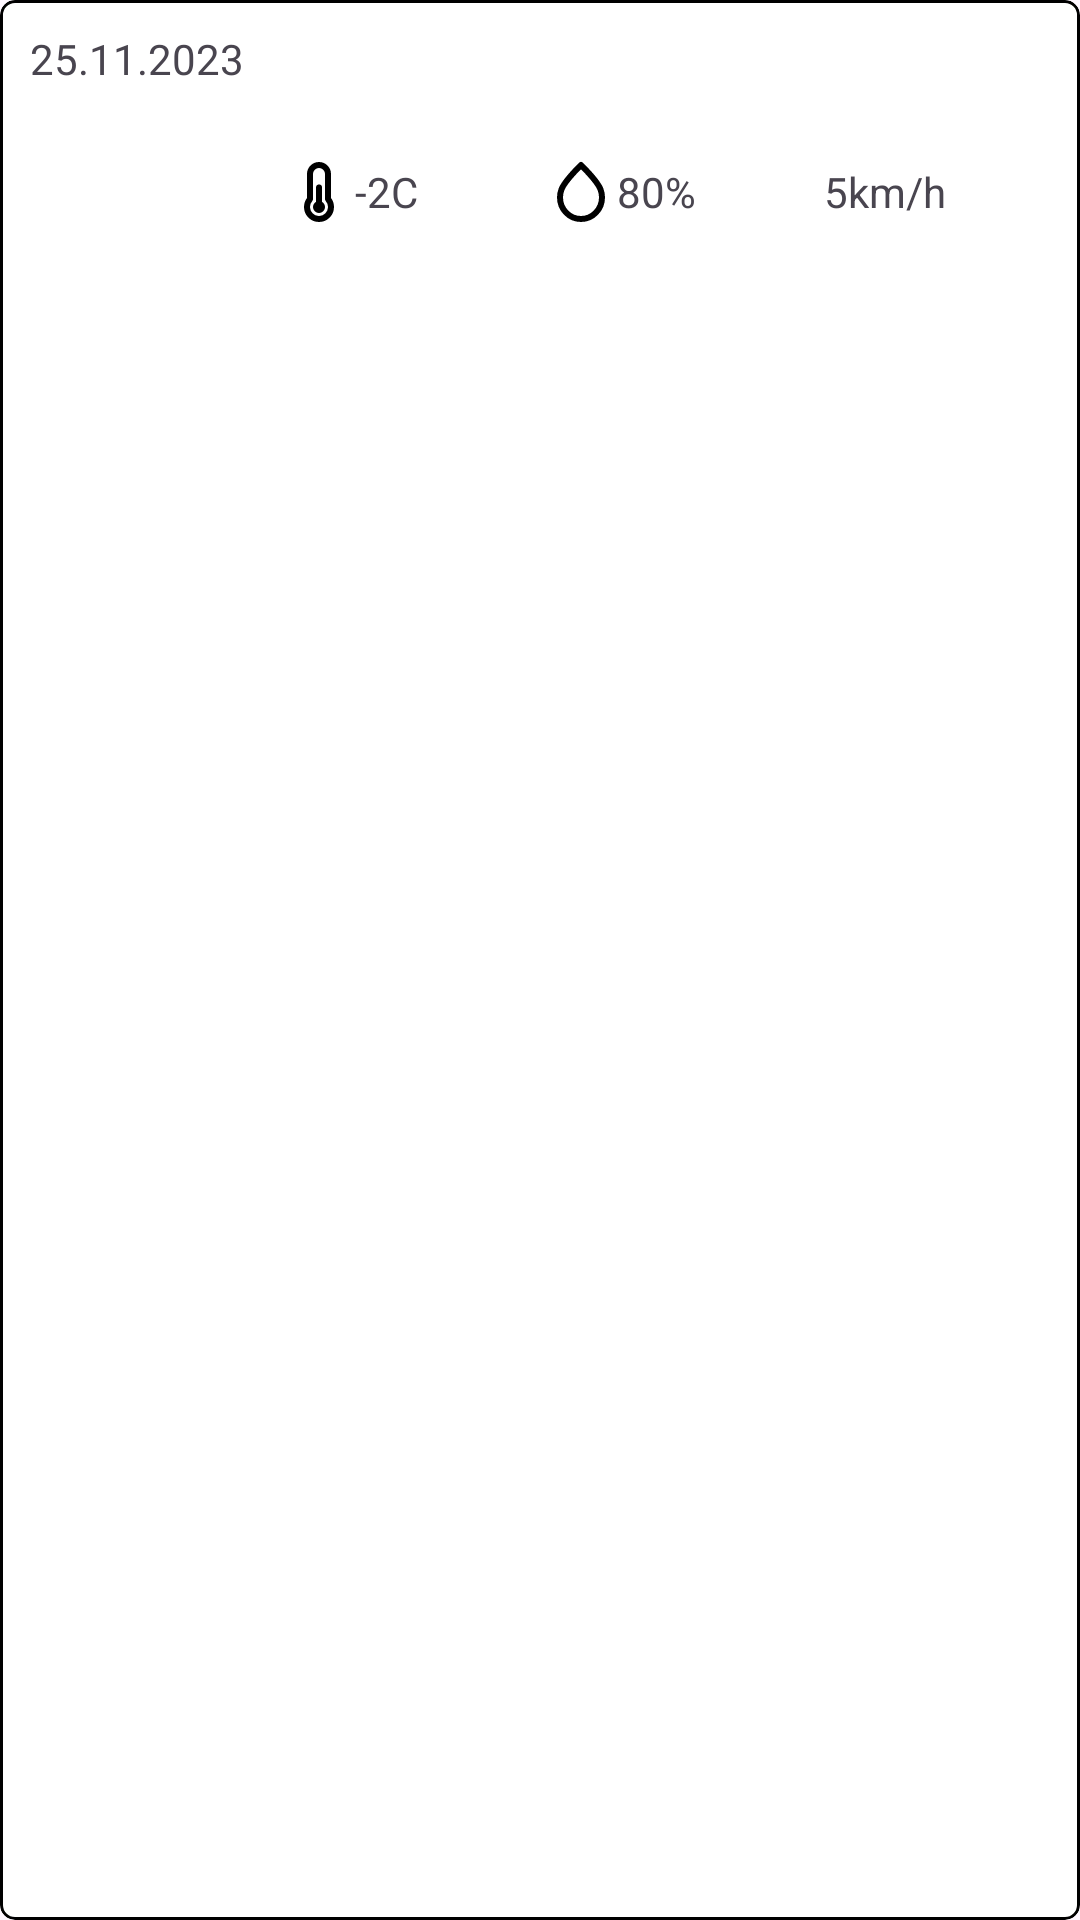

Locate icon controls on the screen. Image size 1080px×1920px, boxes as box(x1, y1, x2, y2).
humidity: box(557, 162, 605, 222)
termostat: box(304, 162, 334, 222)
